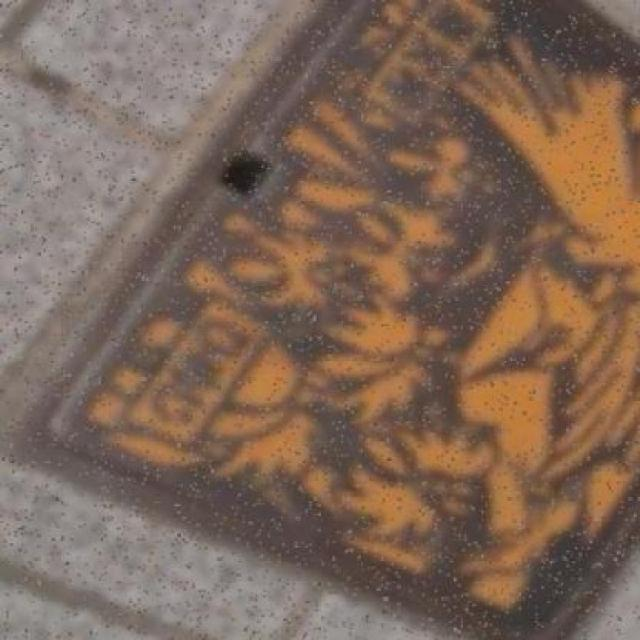Manhole: (5, 4, 638, 632)
